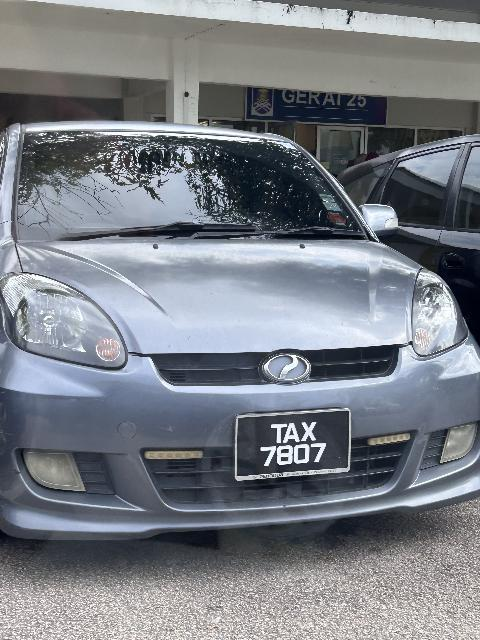License_Plate: (229, 409, 355, 481)
TAX7807: (229, 409, 355, 481)
car: (5, 125, 480, 547)
